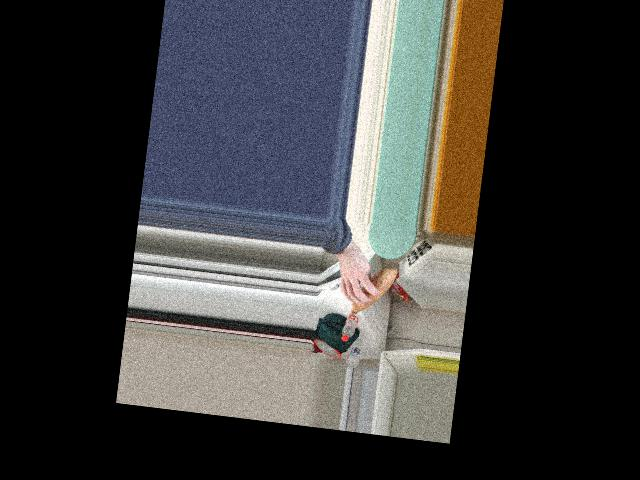sweet_potato: (339, 269, 395, 316)
